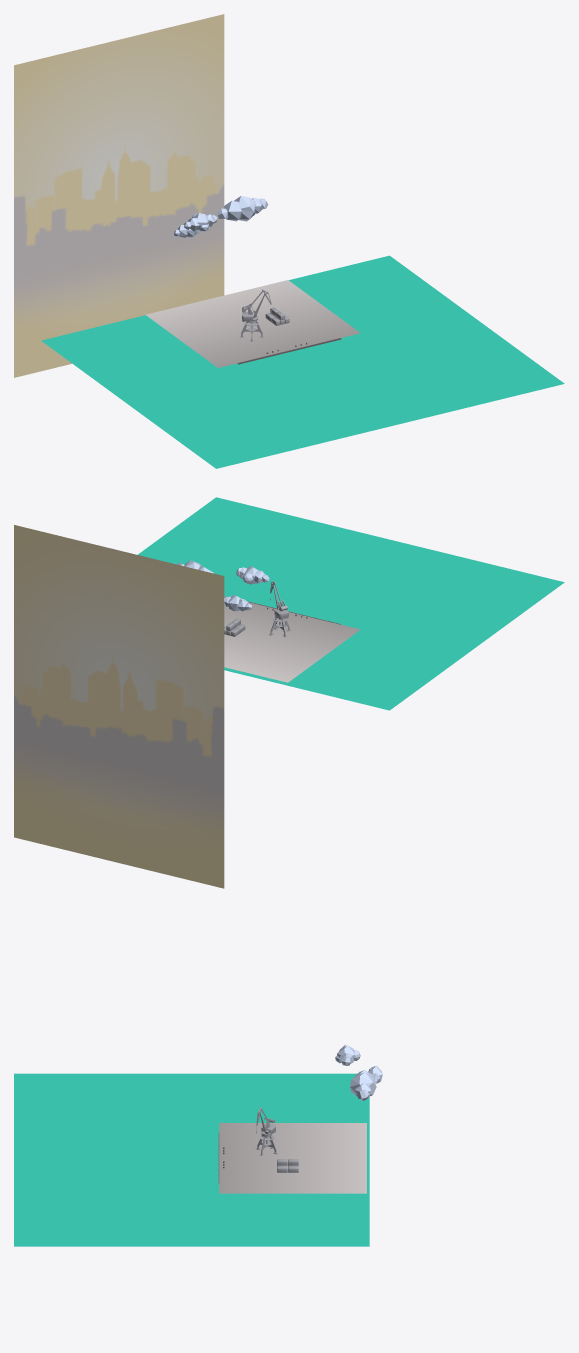
The model's file is Full Scene.fbx.
3 renders of one model, top to bottom at view 1: azimuth 30°, elevation 25°; view 2: azimuth 150°, elevation 25°; view 3: azimuth 270°, elevation 25°, orthographic.
Visible parts, largest first — view 1: BG, Water, Floor, Clouds, Kran; view 2: BG, Water, Floor, Clouds, Kran; view 3: Water, Floor, Clouds, Kran.
Part boxes in pixels (<box>): BG: <box>14,14,224,377</box>; Water: <box>41,255,564,468</box>; Floor: <box>145,280,360,367</box>; Clouds: <box>174,196,268,237</box>; Kran: <box>239,289,271,341</box>; BG: <box>14,525,224,888</box>; Water: <box>138,497,564,710</box>; Floor: <box>224,596,360,682</box>; Clouds: <box>174,560,269,611</box>; Kran: <box>269,581,291,637</box>; Water: <box>14,1073,369,1246</box>; Floor: <box>219,1123,366,1193</box>; Clouds: <box>335,1044,382,1100</box>; Kran: <box>256,1107,277,1155</box>.
Bounding box in the file's own units: 8.6 × 7.36 × 11.59.
